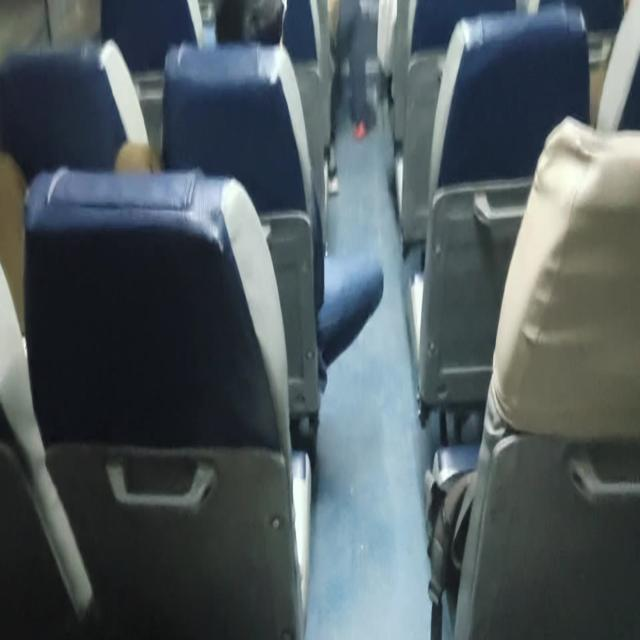person: (214, 0, 281, 71)
